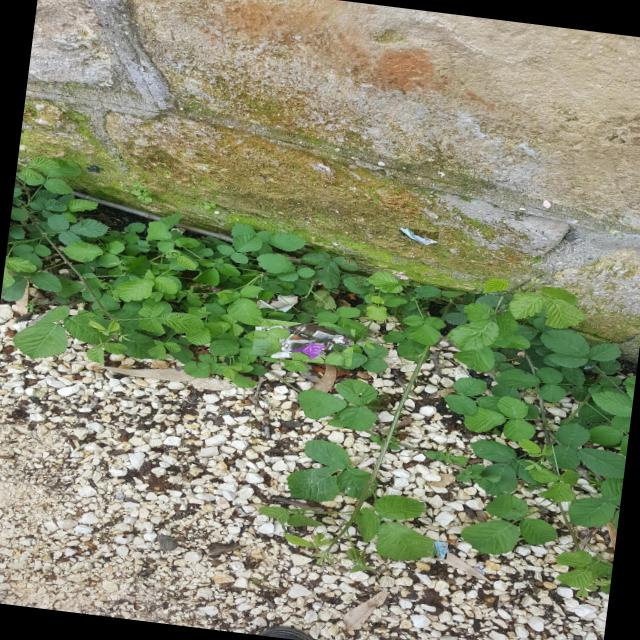Other plastic: (255, 324, 354, 360), (257, 294, 300, 313), (434, 542, 447, 558), (203, 286, 218, 292)
Unlabeled litter: (399, 227, 437, 244)
